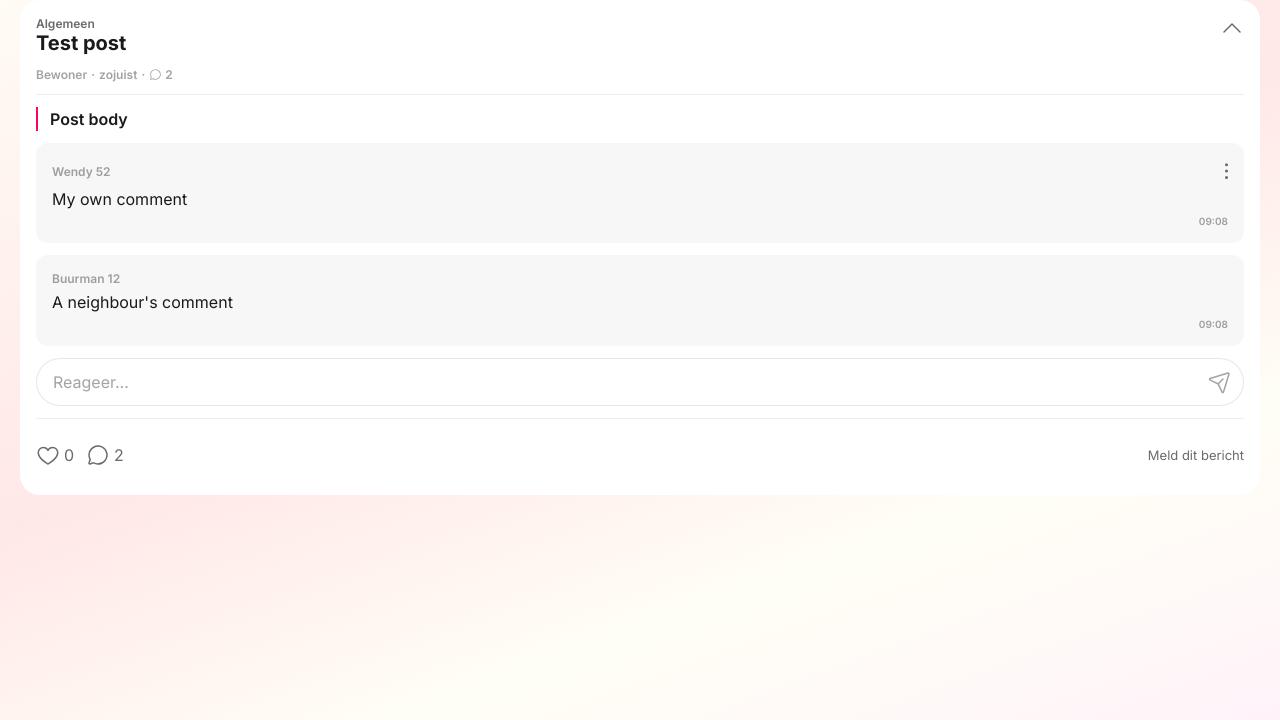
Test: CommentItem OverflowMenu › deletes a comment after confirming, and does not delete on cancel
Expected: the text "My own comment" is shown, [52, 189, 187, 209]
Click the button named "Meer opties" at [1206, 161], box [1184, 139, 1228, 183]
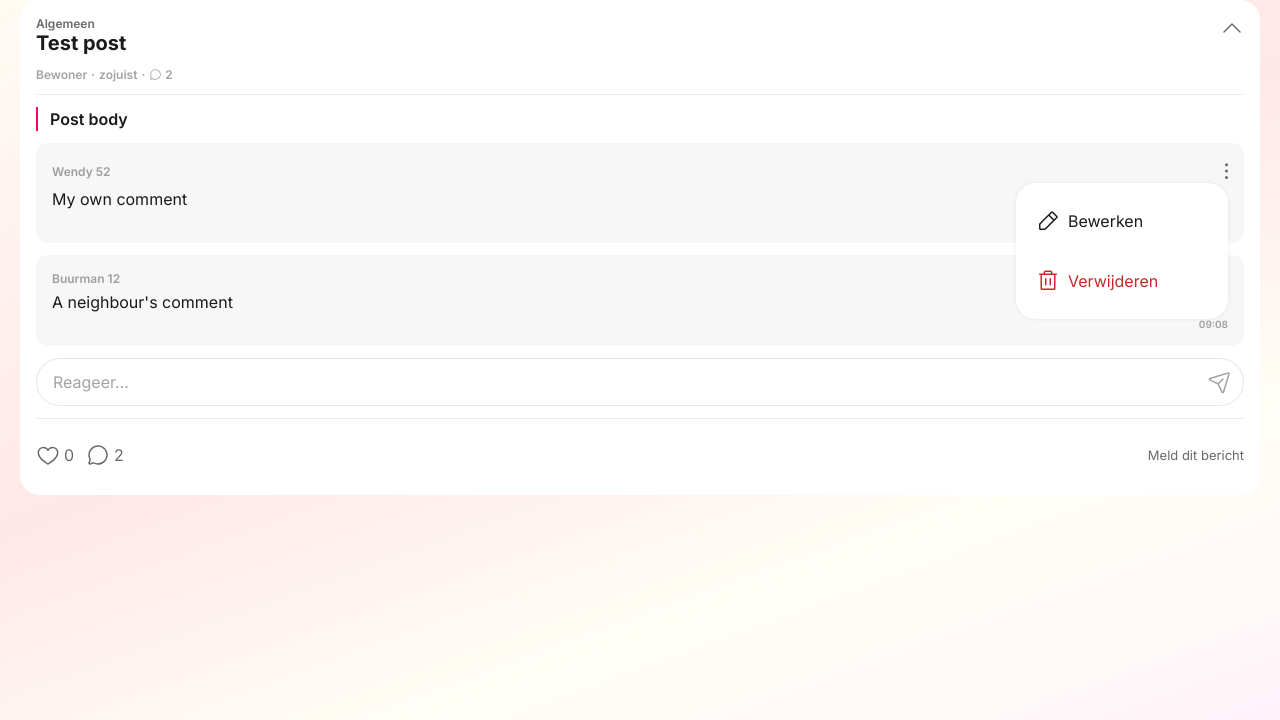
Click the button "Verwijderen" at [1122, 281], box [1036, 259, 1208, 303]
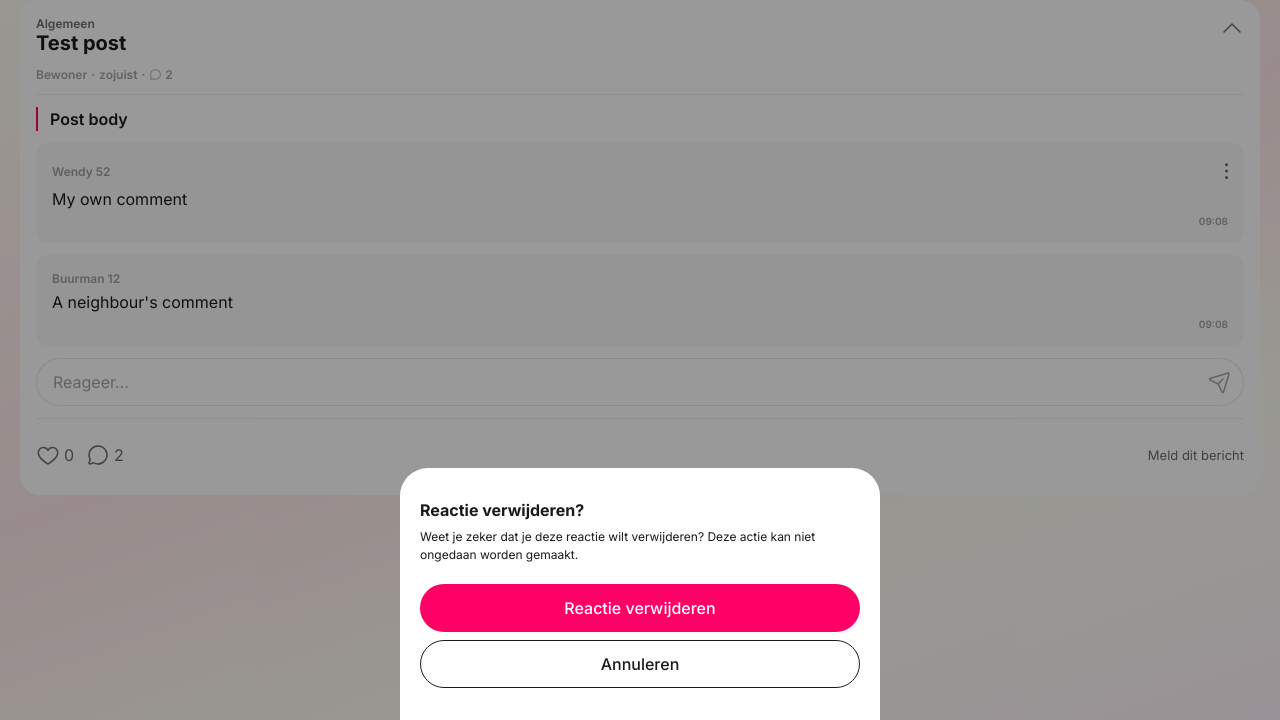
Expected: the text "Reactie verwijderen?" is shown, [420, 500, 584, 520]
Click the button "Annuleren" at [640, 664], box [420, 640, 860, 688]
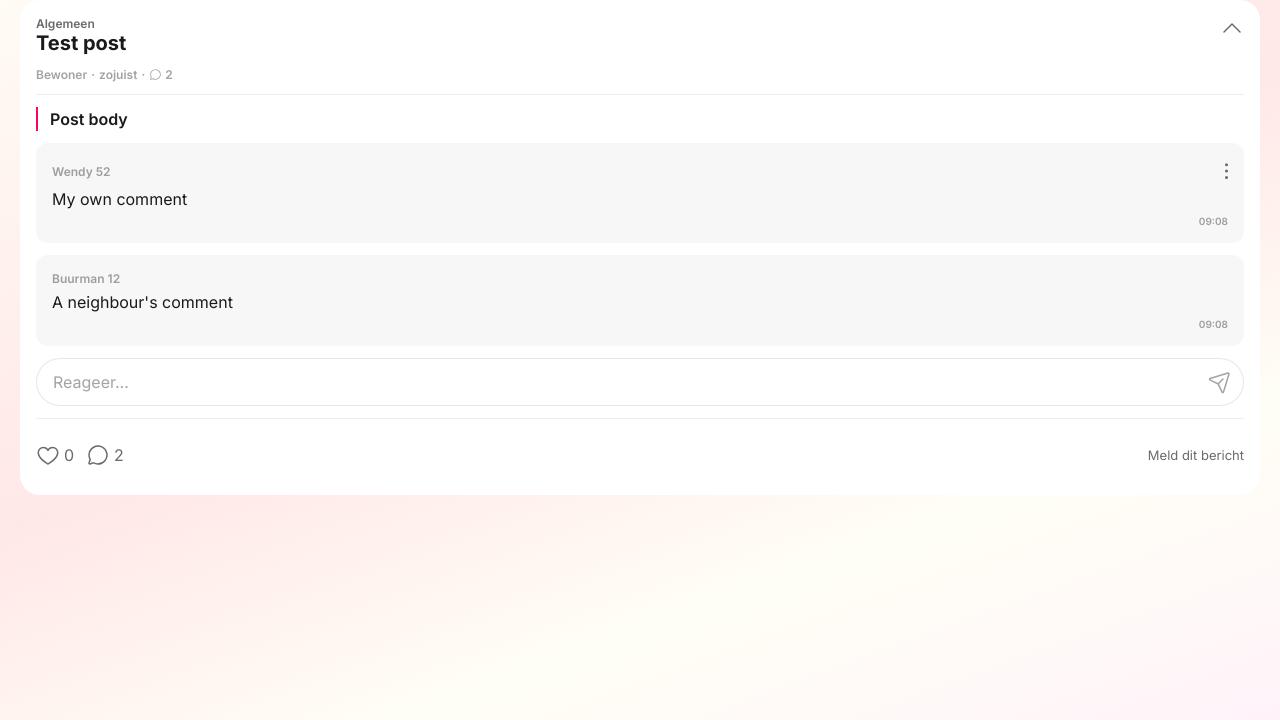
Expected: the text "My own comment" is shown, [52, 189, 187, 209]
Click the button named "Meer opties" at [1206, 161], box [1184, 139, 1228, 183]
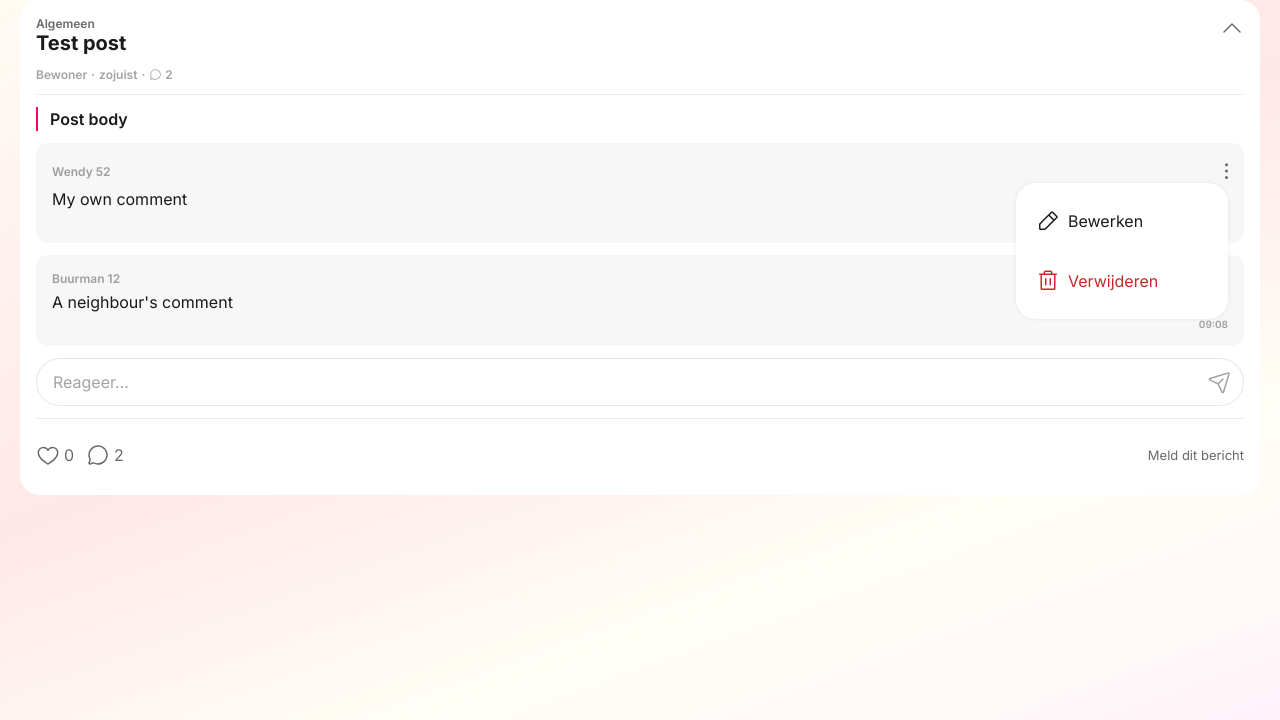
Click the button "Verwijderen" at [1122, 281], box [1036, 259, 1208, 303]
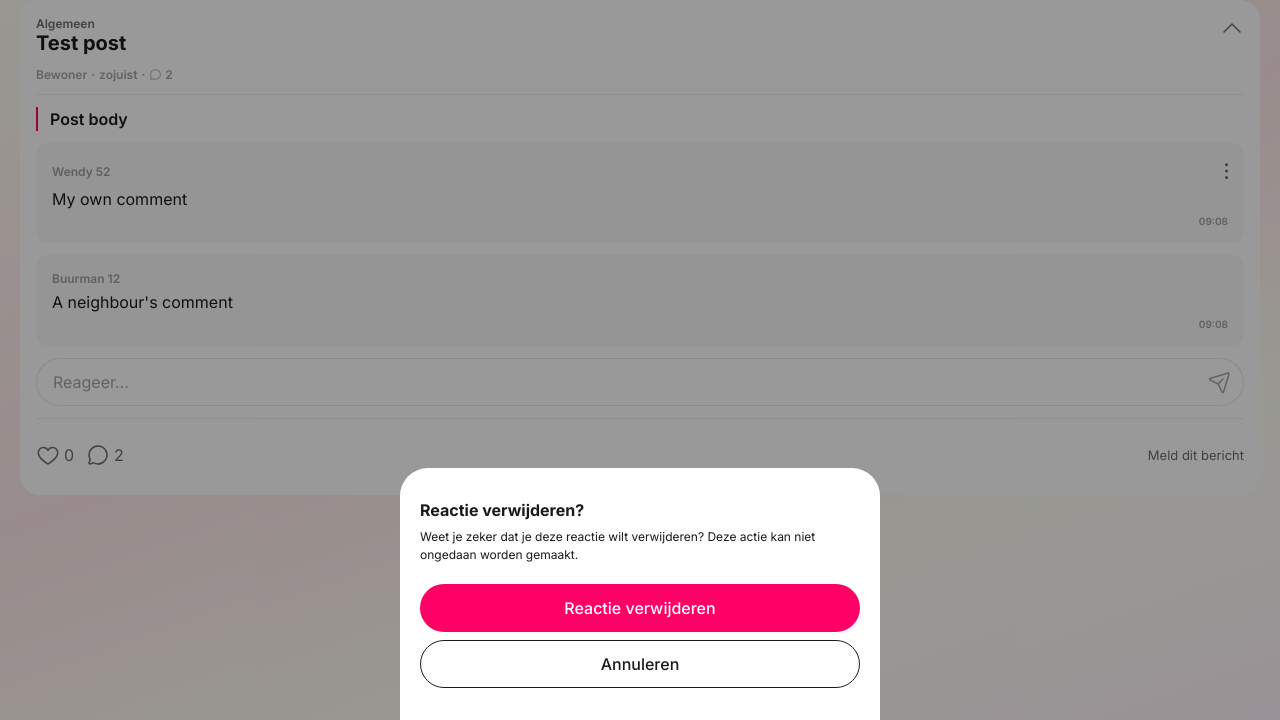
Click the button "Reactie verwijderen" at [640, 608], box [420, 584, 860, 632]
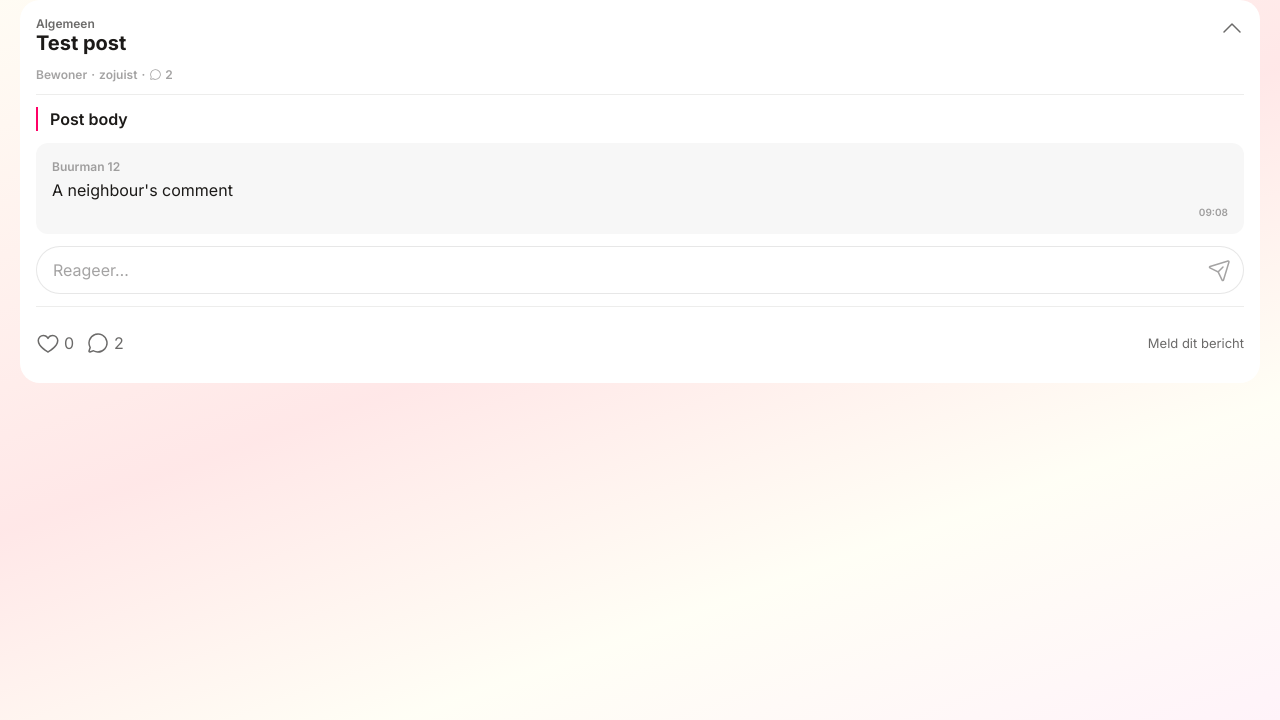
Expected: the text "My own comment" is gone
